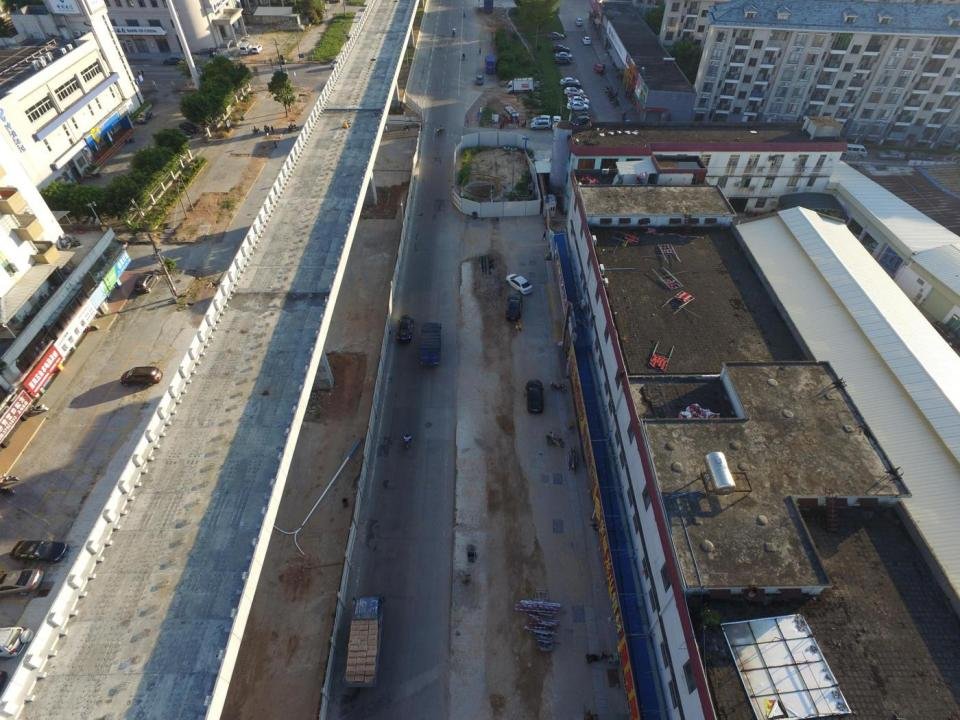car: (8, 539, 70, 564), (0, 568, 46, 600), (0, 624, 32, 660), (119, 366, 164, 387), (525, 379, 545, 414), (505, 273, 532, 295), (133, 270, 160, 292), (397, 314, 414, 343), (505, 294, 522, 322), (877, 149, 905, 160), (906, 151, 934, 162), (569, 115, 591, 128), (135, 110, 153, 125), (529, 119, 551, 131), (566, 101, 590, 112), (161, 55, 183, 66), (563, 86, 584, 96), (567, 96, 590, 105), (551, 115, 562, 132), (559, 76, 579, 85), (566, 92, 588, 100), (552, 44, 570, 53), (531, 114, 550, 122), (554, 52, 573, 60), (251, 43, 264, 54), (562, 82, 582, 89), (547, 32, 564, 40), (554, 58, 571, 65), (594, 63, 603, 73), (582, 36, 591, 46), (575, 17, 583, 26)
truck: (341, 590, 388, 688), (418, 321, 444, 368), (504, 76, 537, 94), (483, 55, 496, 74)
van: (838, 143, 868, 157), (942, 150, 960, 166), (239, 42, 252, 55)
